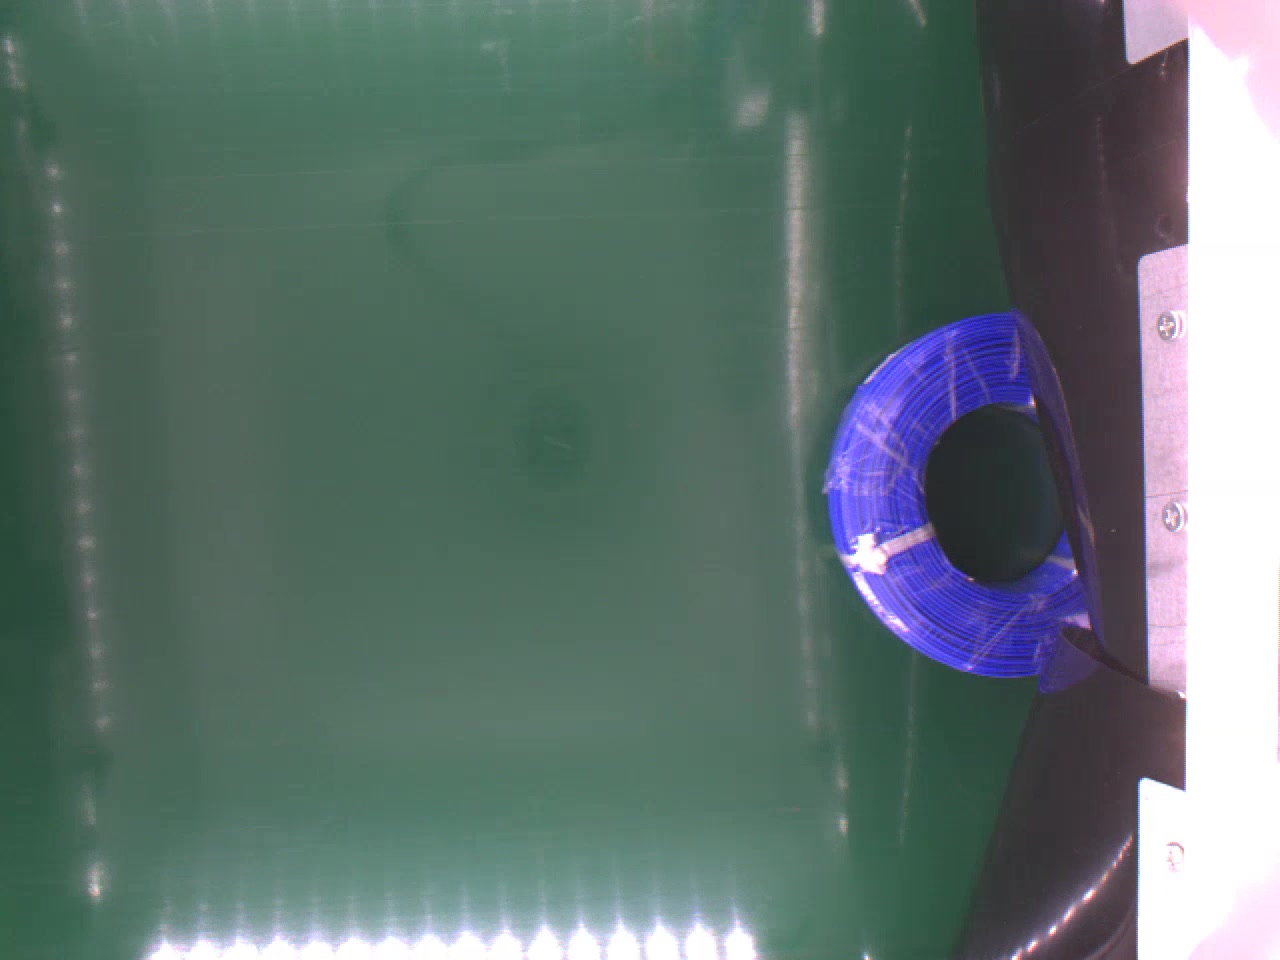blue: (821, 311, 1092, 681)
